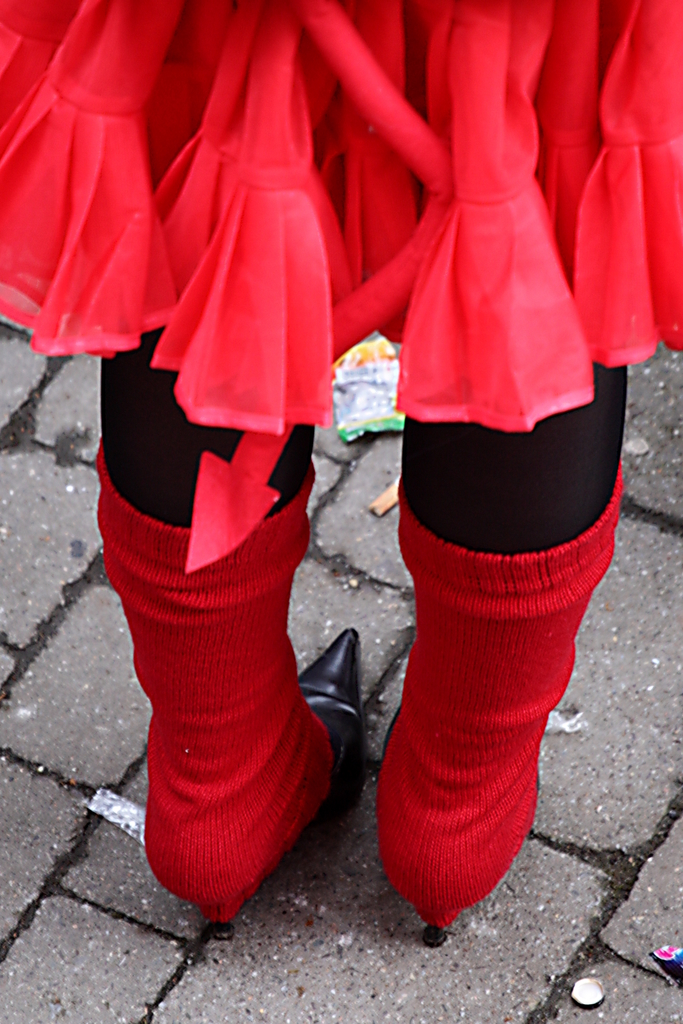Person: (0, 0, 683, 947)
